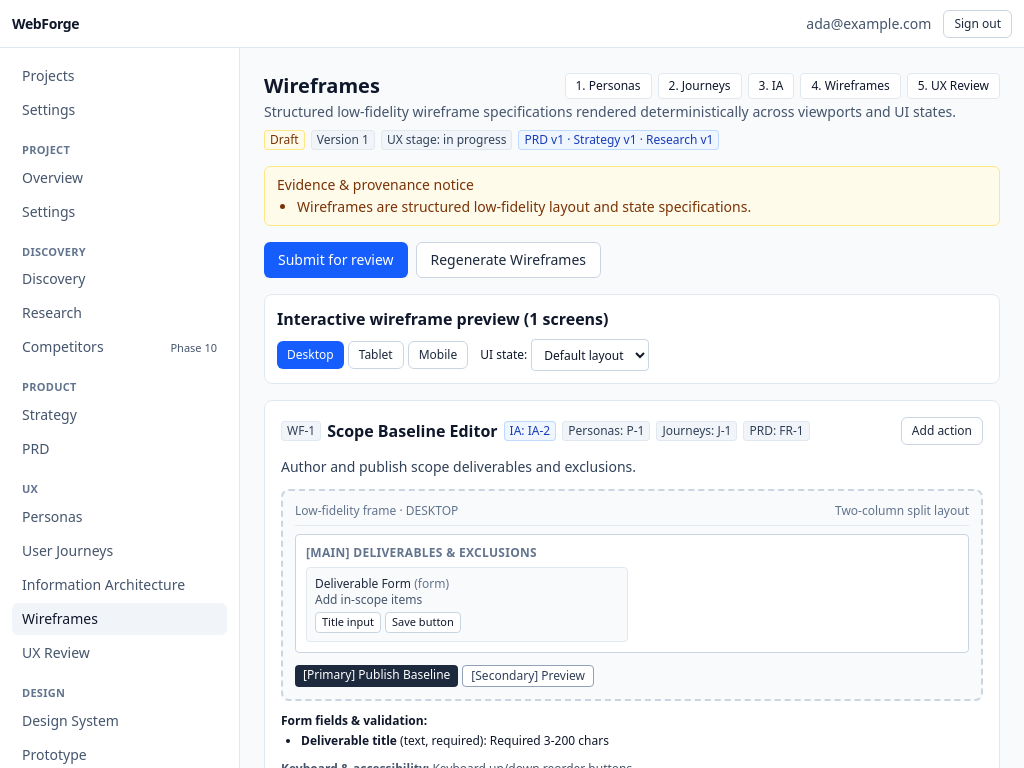
Test: Phase 11 UX Workspaces (Personas, Journeys, IA, Wireframes, UX Review) › renders interactive low-fidelity wireframes with viewport switching and UI state previews
Check: the heading "Scope Baseline Editor" is shown, box 327,419 -> 498,443
Check: the element with test id "wf-canvas-WF-1" shows "Two-column split layout", box 835,502 -> 969,519
// Switch viewport to Mobile
Step 1. Click the button "Mobile" → [438, 355], box 408,341 -> 468,369
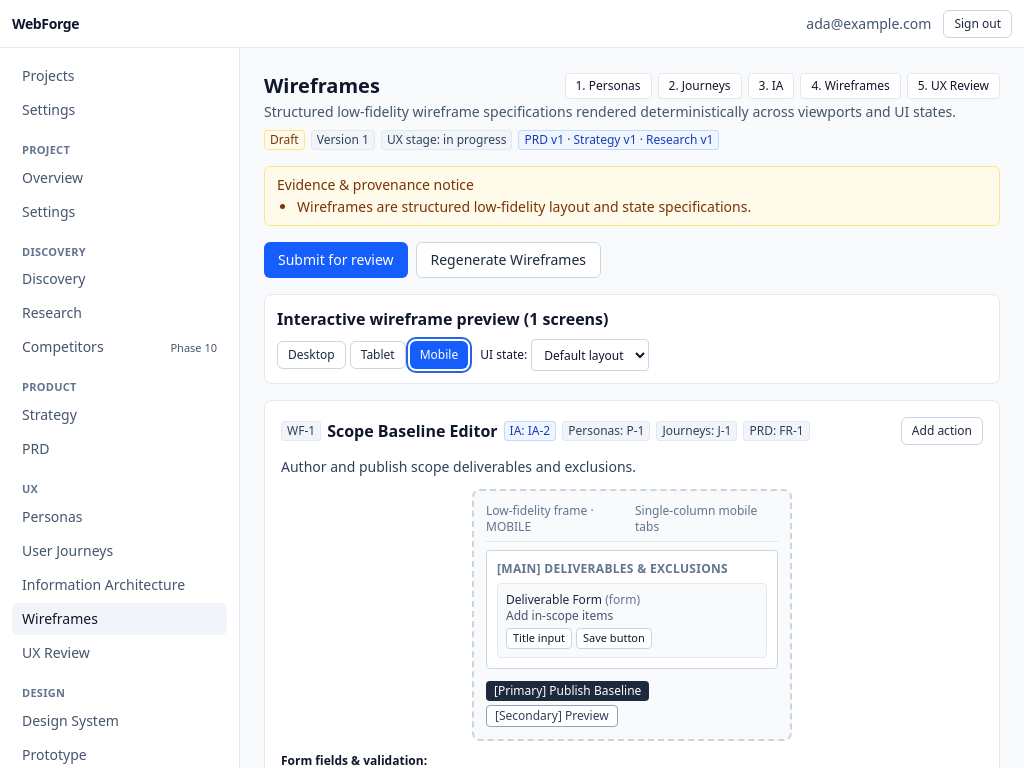
Check: the element with test id "wf-canvas-WF-1" shows "Single-column mobile tabs", box 635,502 -> 757,535
// Switch UI state preview to Empty state
Step 2. Select "Empty state" in the dropdown named "UI state preview" → [590, 355], box 531,339 -> 649,371
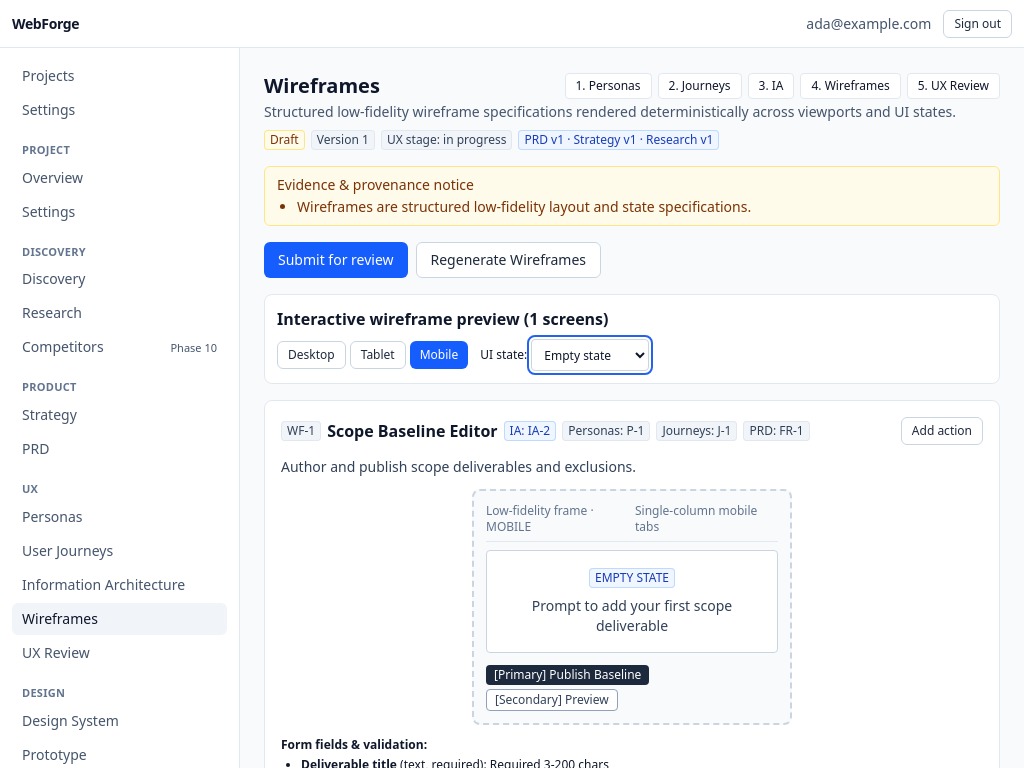
Check: the element with test id "wf-canvas-WF-1" shows "Prompt to add your first scope deliverable", box 532,596 -> 732,635
